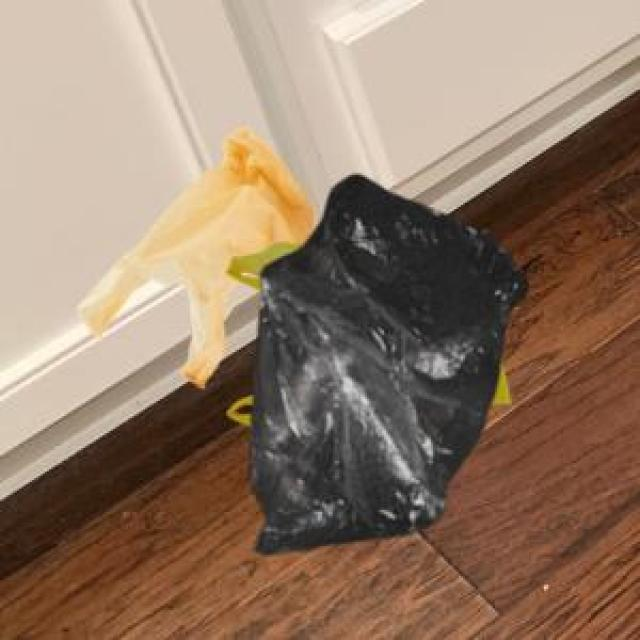Bolsa-de-nilon: (250, 175, 528, 557)
